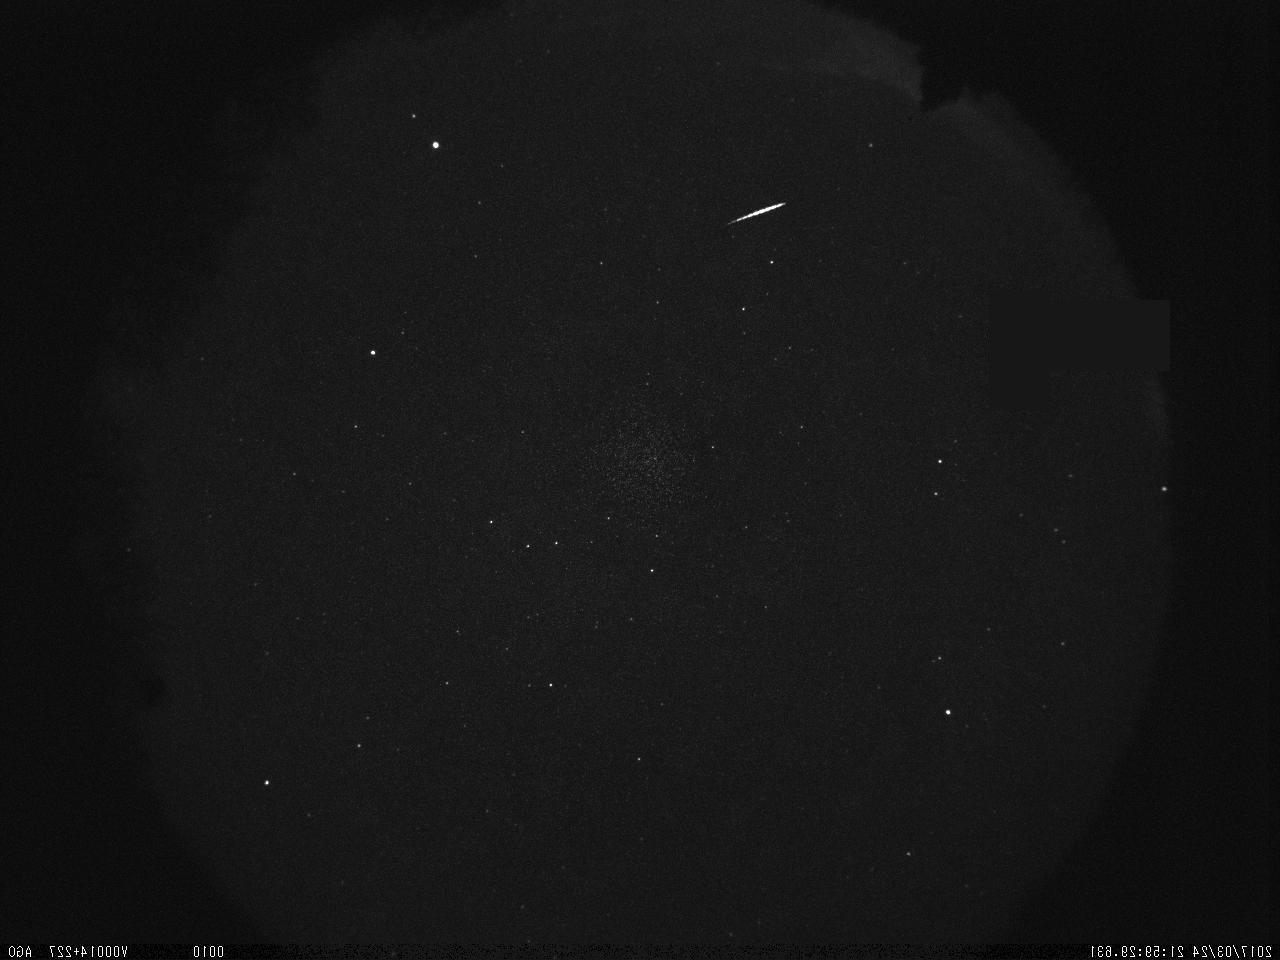meteor: (722, 196, 794, 231)
